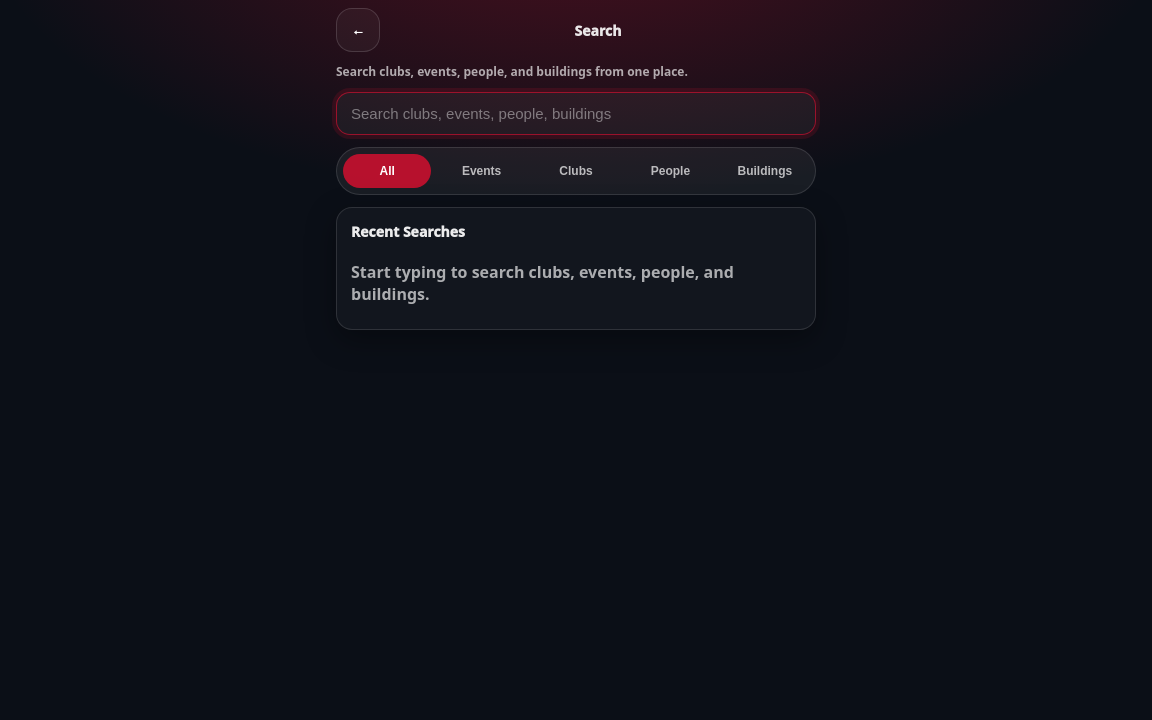
Scenario: Search page › shows grouped results after searching
The image size is (1152, 720).
Type "ai" into the search field with placeholder "Search clubs, events, people, buildings" at (576, 114), box [336,92,816,135]
(page scrolled)
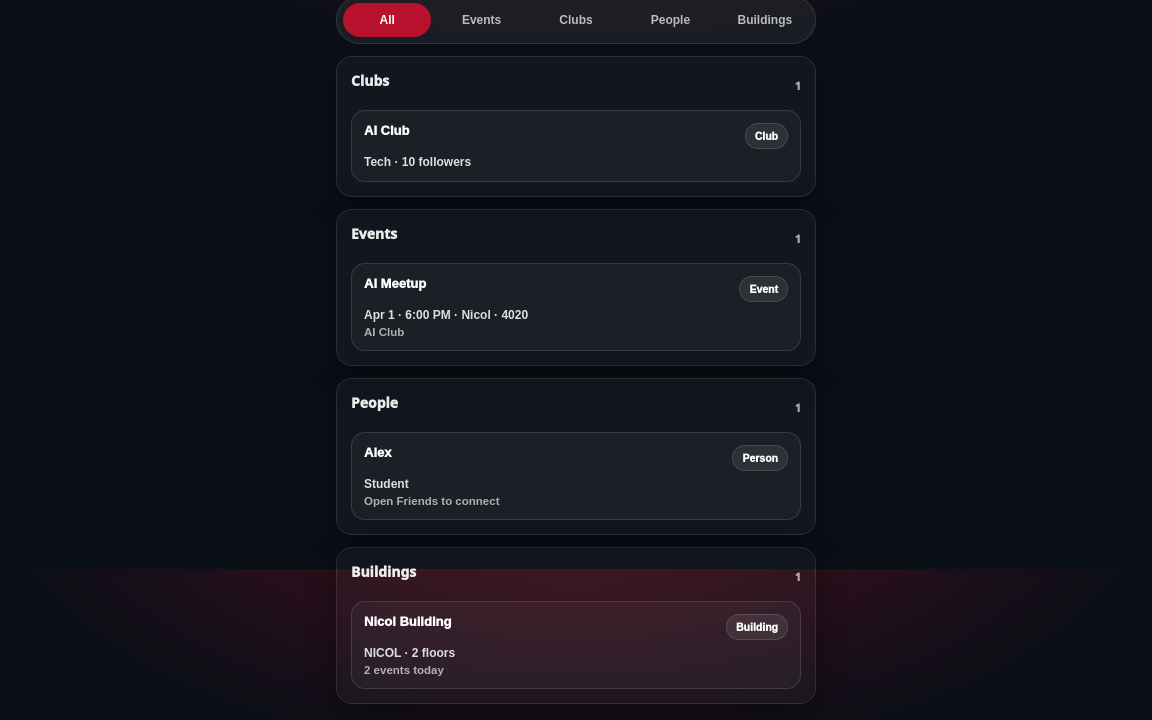
Expected: the 1st text "AI Club" is shown, [364,123,410,138]
Expected: the text "AI Meetup" is shown, [364,276,426,291]
Expected: the text "Alex" is shown, [364,445,392,460]
